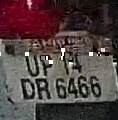1: (60, 58, 70, 76)
4: (67, 77, 79, 100), (70, 56, 84, 74)
6: (55, 76, 69, 101), (77, 77, 91, 100), (89, 74, 103, 97)
D: (19, 76, 37, 102)
P: (39, 55, 56, 75)
R: (36, 79, 53, 101)
U: (23, 53, 41, 79)
